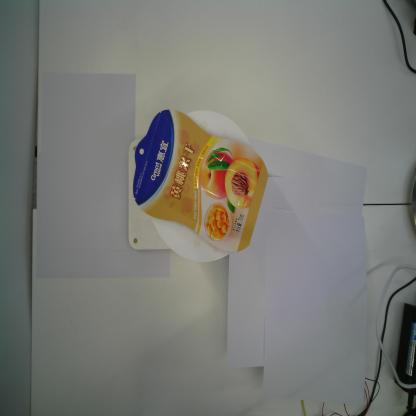Dried Fruit: (132, 109, 269, 252)
